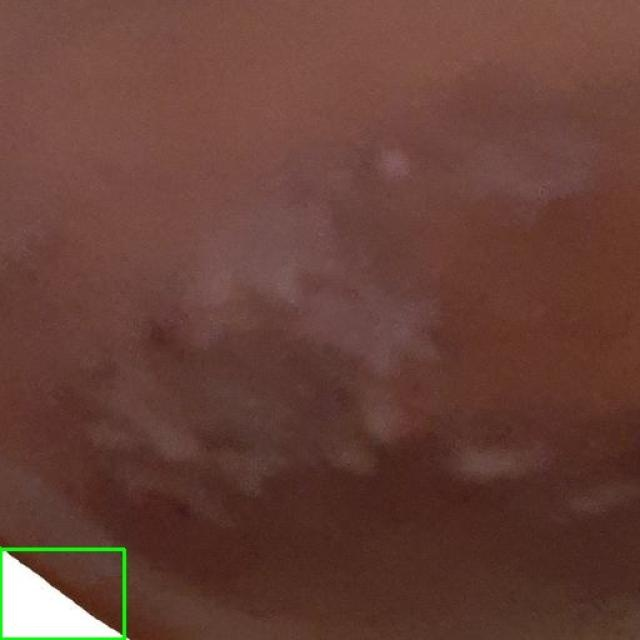Eczema: (0, 549, 124, 639)
